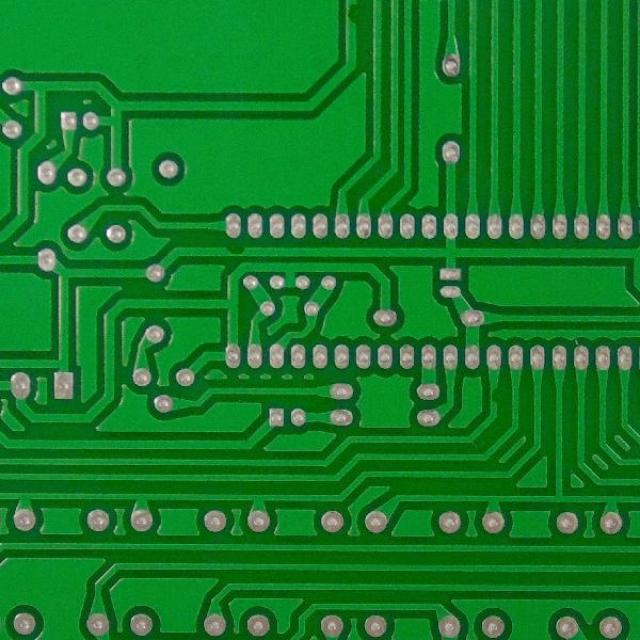MouseBite: (342, 0, 360, 31), (220, 244, 250, 260), (486, 382, 502, 408)
